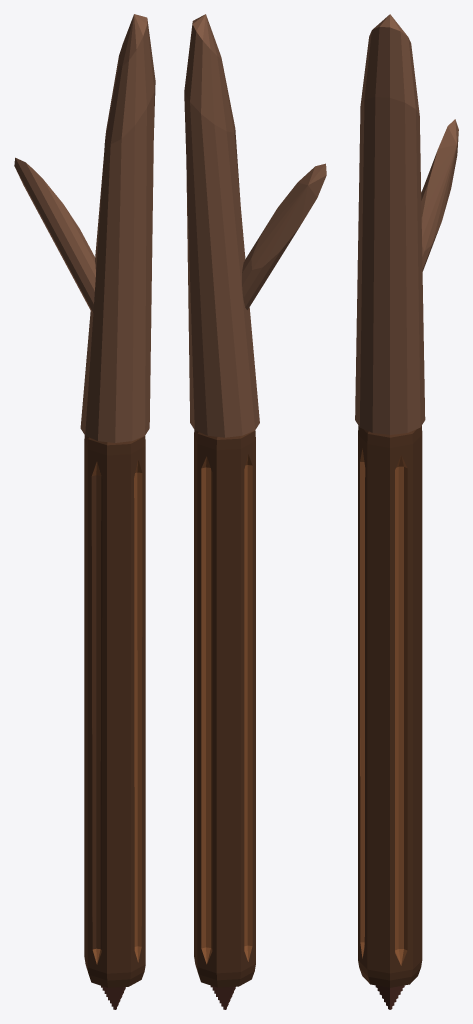
File: Wand 564.glb
The picture shows the model from 3 angles, left to right: view 1: azimuth 30°, elevation 25°; view 2: azimuth 210°, elevation 25°; view 3: azimuth 270°, elevation 25°; orthographic projection.
Visible parts, largest first — view 1: GeneratedWand; view 2: GeneratedWand; view 3: GeneratedWand.
Part boxes in pixels (x1,y1,x2,y2): GeneratedWand: (14,14,155,1009); GeneratedWand: (184,14,326,1009); GeneratedWand: (355,14,458,1009).
Bounding box in the file's own units: 0.0578 × 0.4976 × 0.0466.
